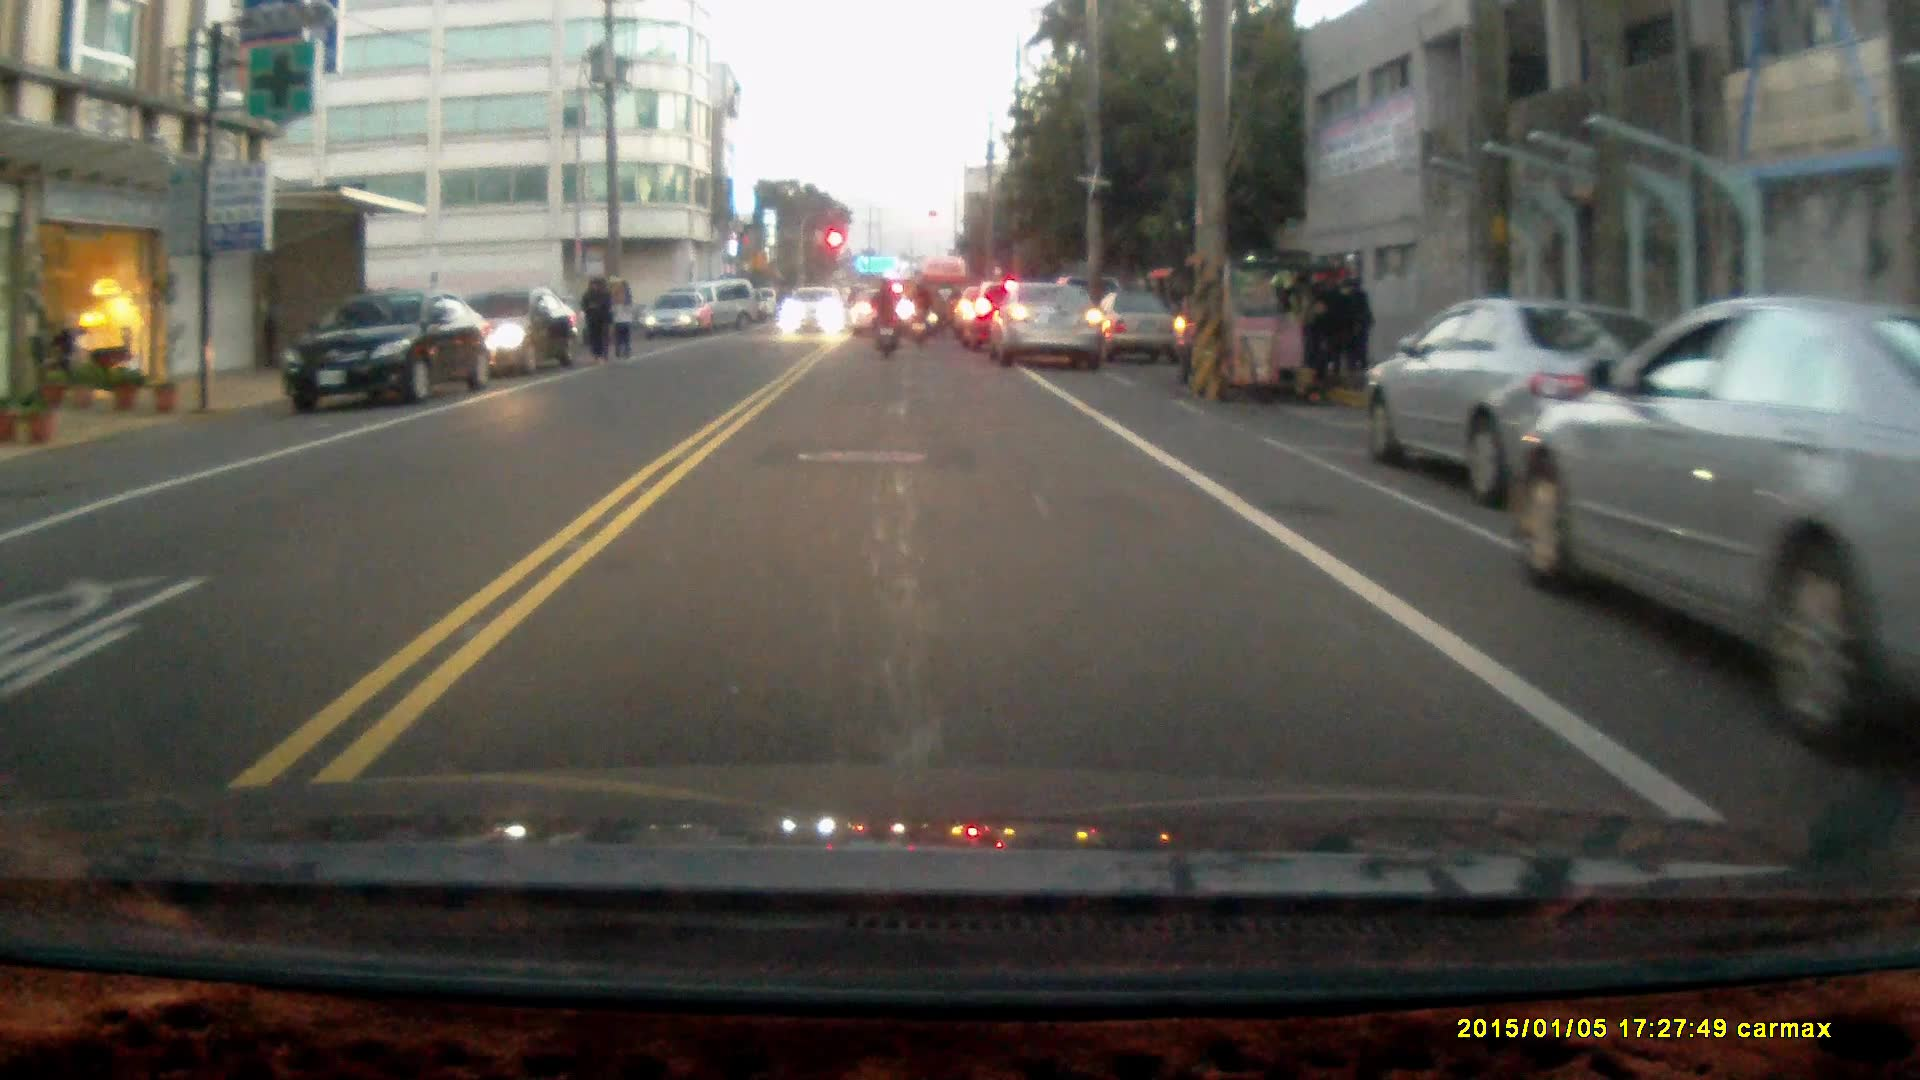pedestrian: (1338, 275, 1377, 383), (577, 275, 612, 369), (610, 275, 636, 363)
rider: (868, 279, 902, 362), (903, 279, 932, 345)
vehicle: (1515, 291, 1920, 773), (1359, 297, 1717, 509), (274, 286, 499, 414), (1169, 260, 1358, 409), (460, 286, 586, 376), (992, 283, 1108, 373), (645, 292, 720, 343), (781, 288, 850, 340)
